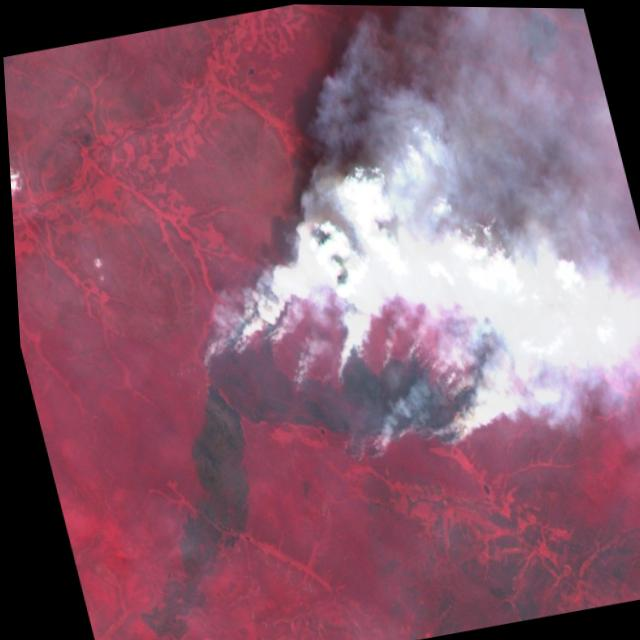fire: (177, 270, 495, 498)
